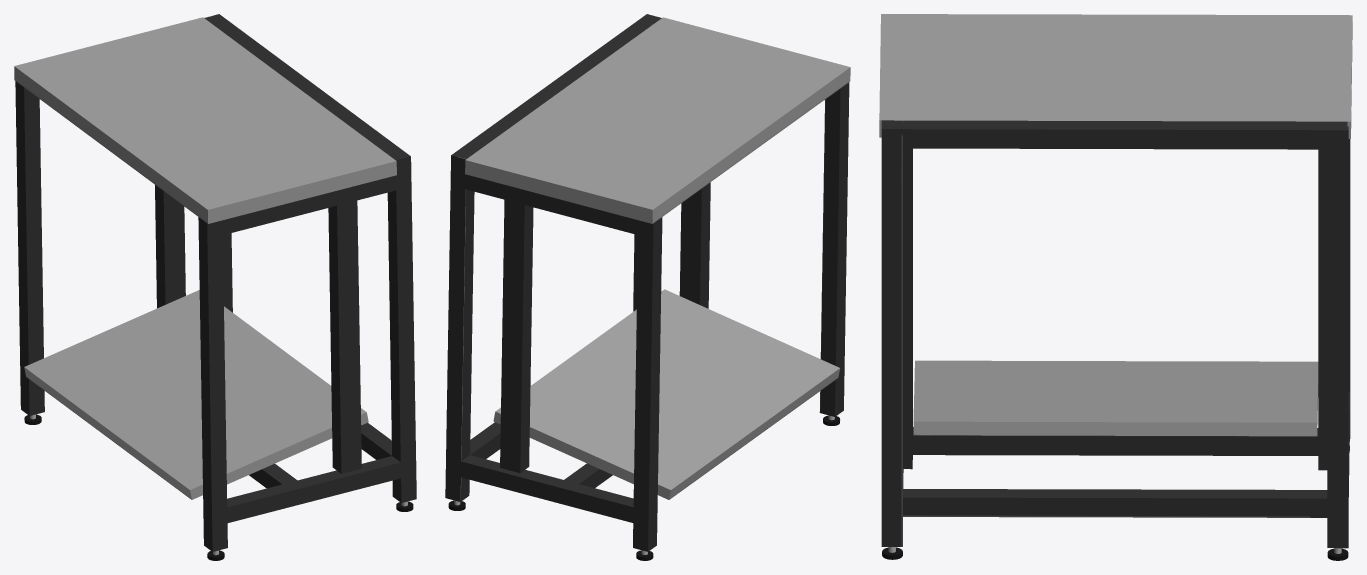
The model's file is Work Table.fbx.
The picture shows the model from 3 angles, left to right: view 1: azimuth 30°, elevation 25°; view 2: azimuth 150°, elevation 25°; view 3: azimuth 270°, elevation 25°; orthographic projection. The views are drawn at different scales.
Parts seen in each view (by area): view 1: Work Table; view 2: Work Table; view 3: Work Table.
Part boxes in pixels (x1=…): Work Table: x1=14, y1=14, x2=416, y2=560; Work Table: x1=445, y1=14, x2=850, y2=560; Work Table: x1=879, y1=14, x2=1352, y2=560.
Size of the model in its own units: 63.4 by 101 by 100.
Materials: 1 (1 with a texture image).
